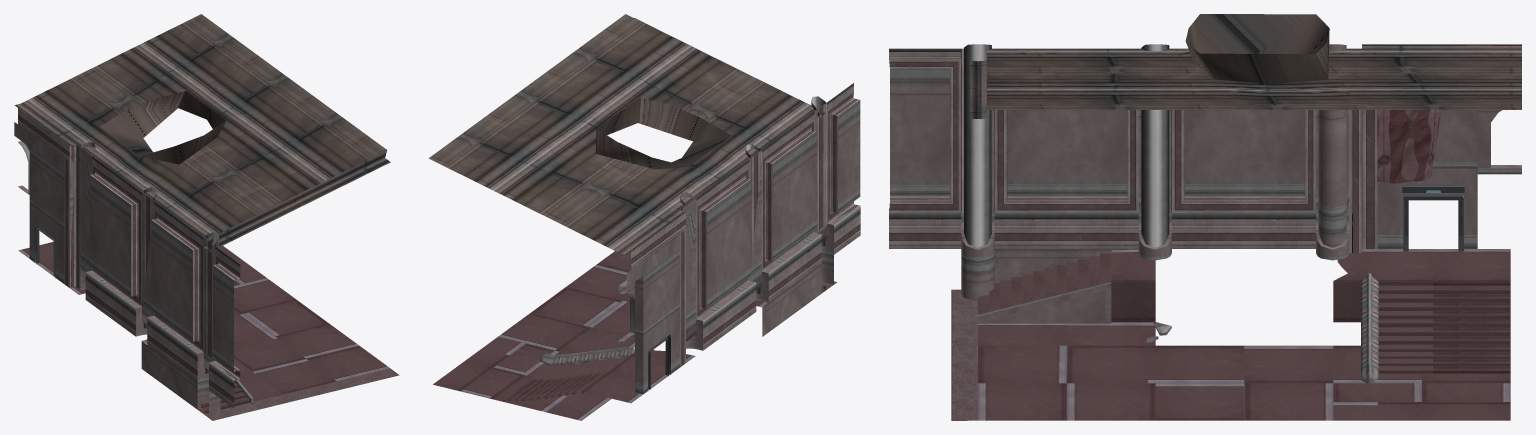
Rendered from Cor1_bldg_Grand_hall_2.fbx.
3 renders of one model, left to right at view 1: azimuth 30°, elevation 25°; view 2: azimuth 150°, elevation 25°; view 3: azimuth 270°, elevation 25°, orthographic. The views are drawn at different scales.
Visible parts, largest first — view 1: polymsh_detached167, polymsh_detached95, GH_2, polymsh_detached113, polymsh_detached129, polymsh_detached80, polymsh_detached98, polymsh_detached120, polymsh1441; view 2: polymsh_detached167, polymsh_detached95, GH_2, polymsh_detached113, polymsh_detached129, polymsh_detached97, polymsh_detached98, polymsh1118, polymsh1441; view 3: polymsh_detached95, GH_2, polymsh_detached167, polymsh_detached113, polymsh_detached97, polymsh_detached129, polymsh_detached101, polymsh_detached120, hall1, polymsh_detached80, polymsh_detached98, polymsh1118 (+1 smaller).
Part boxes in pixels (left/top/right/bottom): polymsh_detached167: left=14, top=14, right=390, bottom=251; polymsh_detached95: left=18, top=108, right=203, bottom=381; GH_2: left=18, top=242, right=389, bottom=413; polymsh_detached113: left=197, top=232, right=240, bottom=418; polymsh_detached129: left=14, top=122, right=64, bottom=283; polymsh_detached80: left=204, top=368, right=399, bottom=420; polymsh_detached98: left=141, top=341, right=197, bottom=409; polymsh_detached120: left=199, top=381, right=249, bottom=413; polymsh1441: left=34, top=225, right=55, bottom=278; polymsh_detached167: left=428, top=14, right=825, bottom=254; polymsh_detached95: left=631, top=111, right=821, bottom=366; GH_2: left=433, top=251, right=827, bottom=420; polymsh_detached113: left=811, top=83, right=860, bottom=284; polymsh_detached129: left=618, top=234, right=680, bottom=394; polymsh_detached97: left=503, top=356, right=626, bottom=401; polymsh_detached98: left=762, top=264, right=821, bottom=336; polymsh1118: left=540, top=346, right=634, bottom=365; polymsh1441: left=648, top=335, right=670, bottom=389; polymsh_detached95: left=994, top=44, right=1377, bottom=260; GH_2: left=978, top=249, right=1510, bottom=420; polymsh_detached167: left=970, top=14, right=1521, bottom=118; polymsh_detached113: left=889, top=44, right=994, bottom=300; polymsh_detached97: left=1378, top=282, right=1510, bottom=373; polymsh_detached129: left=1377, top=110, right=1521, bottom=248; polymsh_detached101: left=1377, top=110, right=1440, bottom=183; polymsh_detached120: left=978, top=253, right=1111, bottom=314; hall1: left=974, top=282, right=1111, bottom=323; polymsh_detached80: left=951, top=289, right=977, bottom=420; polymsh_detached98: left=994, top=249, right=1138, bottom=283; polymsh1118: left=1361, top=273, right=1378, bottom=383.
Size of what is drawn, in the model's own units: 2802 by 3094 by 5701.
